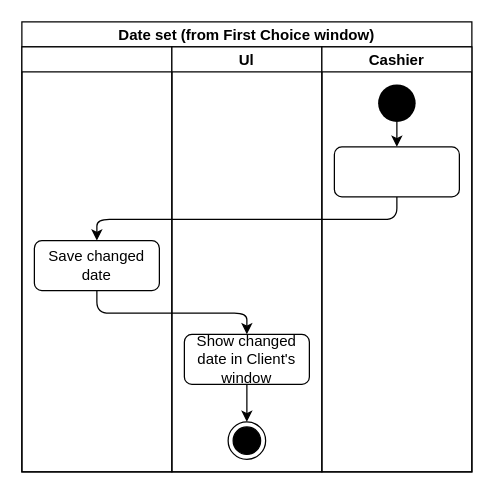
The diagram is 494 pixels wide and 494 high, and some of its shapes have lost their labels. The shapes that lost their labels are listed below. From the top down, each one's box as (x1, y1, x2, y2) in pixels, then its label:
(333, 146, 459, 197): Click on the button "Next day"
(21, 46, 172, 472): System
